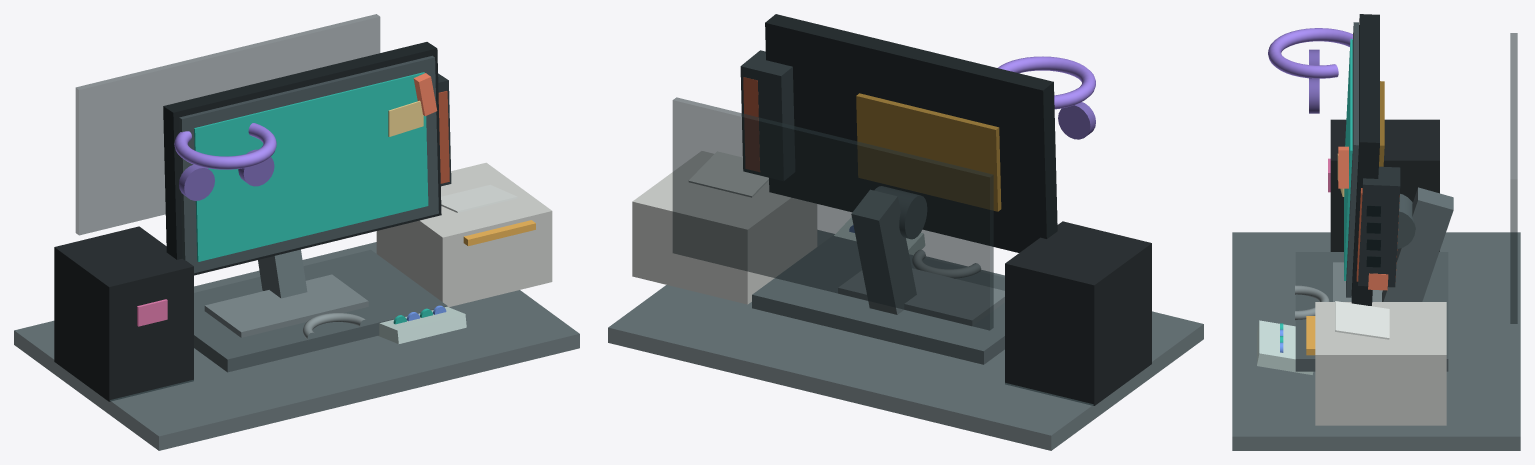
Rendered from orthographic-pilot.glb.
3 renders of one model, left to right at view 1: azimuth 30°, elevation 25°; view 2: azimuth 150°, elevation 25°; view 3: azimuth 270°, elevation 25°, orthographic. The views are drawn at different scales.
Parts seen in each view (by area): view 1: ICX_Tabletop_Reference_Plane, ICX_Application_Display_Surface, ICX_Privacy_Screen_Back, ICX_UPS_Tower, ICX_Printer_Body, ICX_SID21_Table_Base, ICX_SID21_Front_Bezel, ICX_SID21_Display_Housing, ICX_SID21_Battery_Cover, ICX_Headphone_Band, ICX_ATI_Handset, ICX_SID21_Stand_Arm (+9 smaller); view 2: ICX_Privacy_Screen_Back, ICX_SID21_Display_Housing, ICX_Tabletop_Reference_Plane, ICX_UPS_Tower, ICX_Printer_Body, ICX_SID21_Table_Base, ICX_SID21_Mainboard, ICX_SID21_Stand_Arm, ICX_SID21_Rear_Power_Housing, ICX_SID21_Battery_Cover, ICX_Printer_Paper, ICX_Headphone_Band (+4 smaller); view 3: ICX_Tabletop_Reference_Plane, ICX_Printer_Body, ICX_UPS_Tower, ICX_SID21_Display_Housing, ICX_SID21_Stand_Arm, ICX_SID21_Table_Base, ICX_SID21_Rear_Power_Housing, ICX_Privacy_Screen_Back, ICX_Headphone_Band, ICX_SID21_Front_Bezel, ICX_ATI_Handset, ICX_Printer_Paper (+9 smaller).
Part boxes in pixels (left/top/right/bottom): ICX_Tabletop_Reference_Plane: left=14, top=242, right=579, bottom=450; ICX_Application_Display_Surface: left=194, top=72, right=428, bottom=261; ICX_Privacy_Screen_Back: left=75, top=14, right=380, bottom=235; ICX_UPS_Tower: left=54, top=226, right=193, bottom=401; ICX_Printer_Body: left=376, top=162, right=552, bottom=307; ICX_SID21_Table_Base: left=194, top=249, right=447, bottom=372; ICX_SID21_Front_Bezel: left=179, top=55, right=438, bottom=273; ICX_SID21_Display_Housing: left=163, top=42, right=441, bottom=275; ICX_SID21_Battery_Cover: left=204, top=274, right=368, bottom=337; ICX_Headphone_Band: left=174, top=123, right=276, bottom=169; ICX_ATI_Handset: left=378, top=306, right=466, bottom=343; ICX_SID21_Stand_Arm: left=258, top=249, right=307, bottom=298; ICX_Privacy_Screen_Back: left=672, top=97, right=993, bottom=330; ICX_SID21_Display_Housing: left=765, top=14, right=1057, bottom=252; ICX_Tabletop_Reference_Plane: left=608, top=230, right=1203, bottom=450; ICX_UPS_Tower: left=1005, top=221, right=1151, bottom=405; ICX_Printer_Body: left=632, top=151, right=817, bottom=304; ICX_SID21_Table_Base: left=752, top=236, right=1004, bottom=364; ICX_SID21_Mainboard: left=856, top=93, right=1001, bottom=211; ICX_SID21_Stand_Arm: left=851, top=189, right=916, bottom=314; ICX_SID21_Rear_Power_Housing: left=740, top=50, right=795, bottom=181; ICX_SID21_Battery_Cover: left=838, top=268, right=1004, bottom=326; ICX_Printer_Paper: left=688, top=151, right=768, bottom=197; ICX_Headphone_Band: left=998, top=56, right=1095, bottom=109; ICX_Tabletop_Reference_Plane: left=1232, top=232, right=1520, bottom=450; ICX_Printer_Body: left=1315, top=302, right=1446, bottom=425; ICX_UPS_Tower: left=1330, top=119, right=1439, bottom=251; ICX_SID21_Display_Housing: left=1351, top=14, right=1379, bottom=305; ICX_SID21_Stand_Arm: left=1382, top=187, right=1453, bottom=301; ICX_SID21_Table_Base: left=1295, top=252, right=1448, bottom=371; ICX_SID21_Rear_Power_Housing: left=1358, top=166, right=1400, bottom=287; ICX_Privacy_Screen_Back: left=1510, top=33, right=1517, bottom=323; ICX_Headphone_Band: left=1268, top=28, right=1352, bottom=78; ICX_SID21_Front_Bezel: left=1346, top=22, right=1358, bottom=297; ICX_ATI_Handset: left=1257, top=320, right=1313, bottom=374; ICX_Printer_Paper: left=1335, top=301, right=1389, bottom=339.
Bounding box in the file's own units: 5.64 × 3.37 × 3.25.
